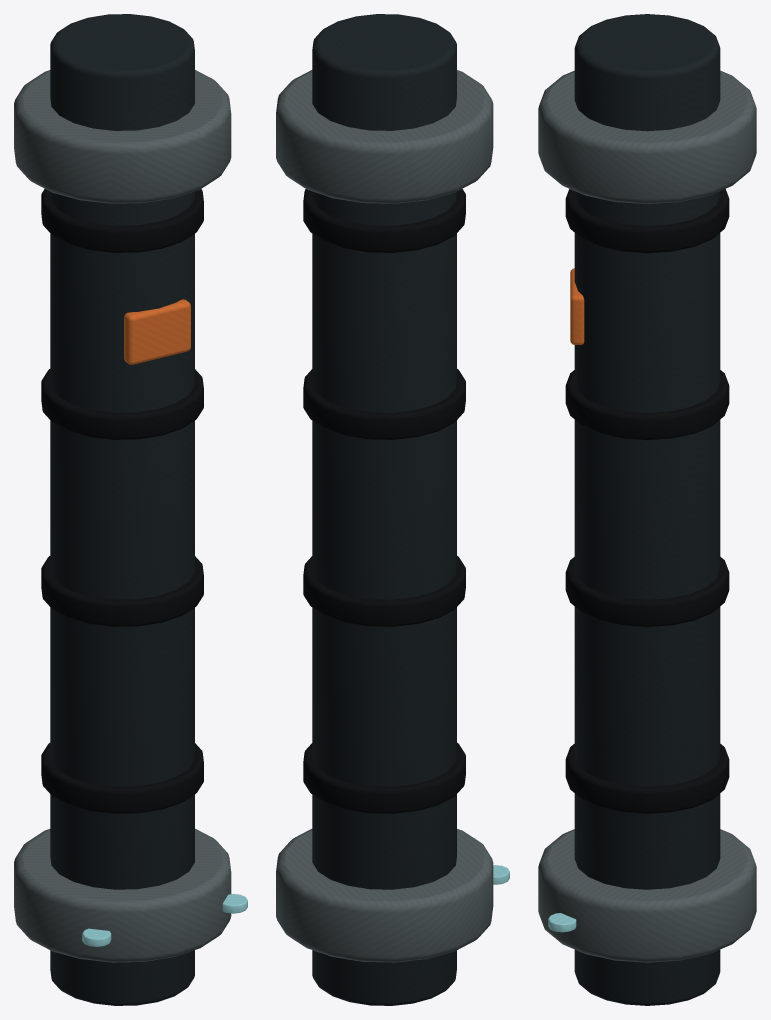
File: PipeSegment.glb
3 views of the same model, side by side, from view 1: azimuth 30°, elevation 25°; view 2: azimuth 150°, elevation 25°; view 3: azimuth 270°, elevation 25° (orthographic).
Parts seen in each view (by area): view 1: PipeSegment_Mesh; view 2: PipeSegment_Mesh; view 3: PipeSegment_Mesh.
Boxes of the visible parts, x1=… form: PipeSegment_Mesh: x1=14, y1=14, x2=247, y2=1005; PipeSegment_Mesh: x1=276, y1=14, x2=509, y2=1005; PipeSegment_Mesh: x1=538, y1=14, x2=756, y2=1005.
Bounding box in the file's own units: 0.36 × 1.7 × 0.36.
5 materials, 5 textured.
